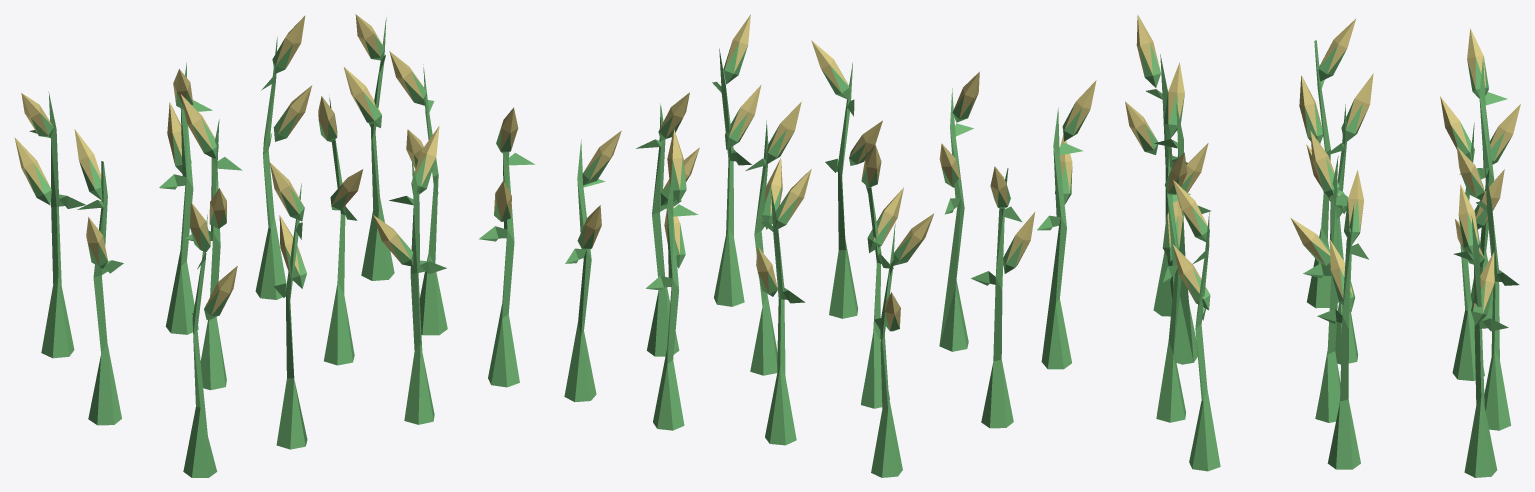
File: Corn-0.fbx
3 views of the same model, side by side, from view 1: azimuth 30°, elevation 25°; view 2: azimuth 150°, elevation 25°; view 3: azimuth 270°, elevation 25° (orthographic). The views are drawn at different scales.
Visible parts, largest first — view 1: Corn-0; view 2: Corn-0; view 3: Corn-0.
Boxes of the visible parts, left/top/right/bottom form: Corn-0: left=14, top=14, right=534, bottom=477; Corn-0: left=564, top=14, right=1096, bottom=477; Corn-0: left=1125, top=14, right=1520, bottom=477.
Size of the model in its own units: 67.16 by 47.05 by 59.32.
